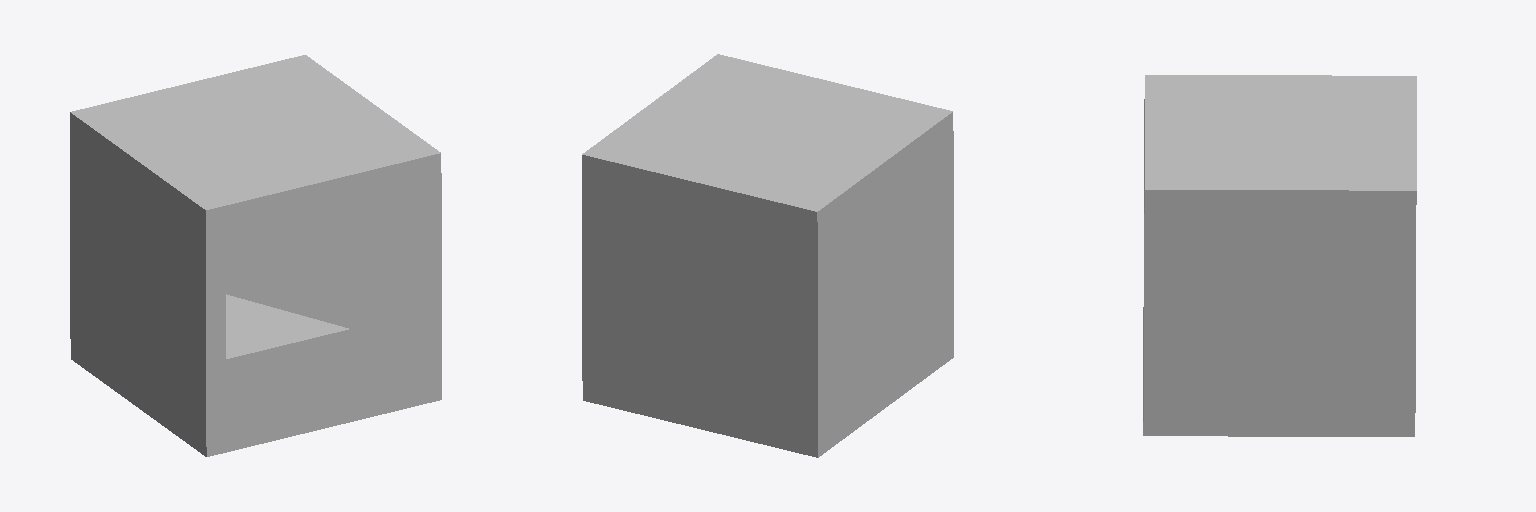
Rendered from Arrow_cube_bottle_enlarge2.obj.
3 renders of one model, left to right at view 1: azimuth 30°, elevation 25°; view 2: azimuth 150°, elevation 25°; view 3: azimuth 270°, elevation 25°, orthographic.
Visible parts, largest first — view 1: Cap.001_Cube.004; view 2: Cap.001_Cube.004; view 3: Cap.001_Cube.004.
Boxes of the visible parts, x1=… form: Cap.001_Cube.004: x1=70, y1=55, x2=441, y2=456; Cap.001_Cube.004: x1=582, y1=54, x2=953, y2=457; Cap.001_Cube.004: x1=1143, y1=75, x2=1416, y2=436.
Bounding box in the file's own units: 0.08 × 0.0803 × 0.0803.